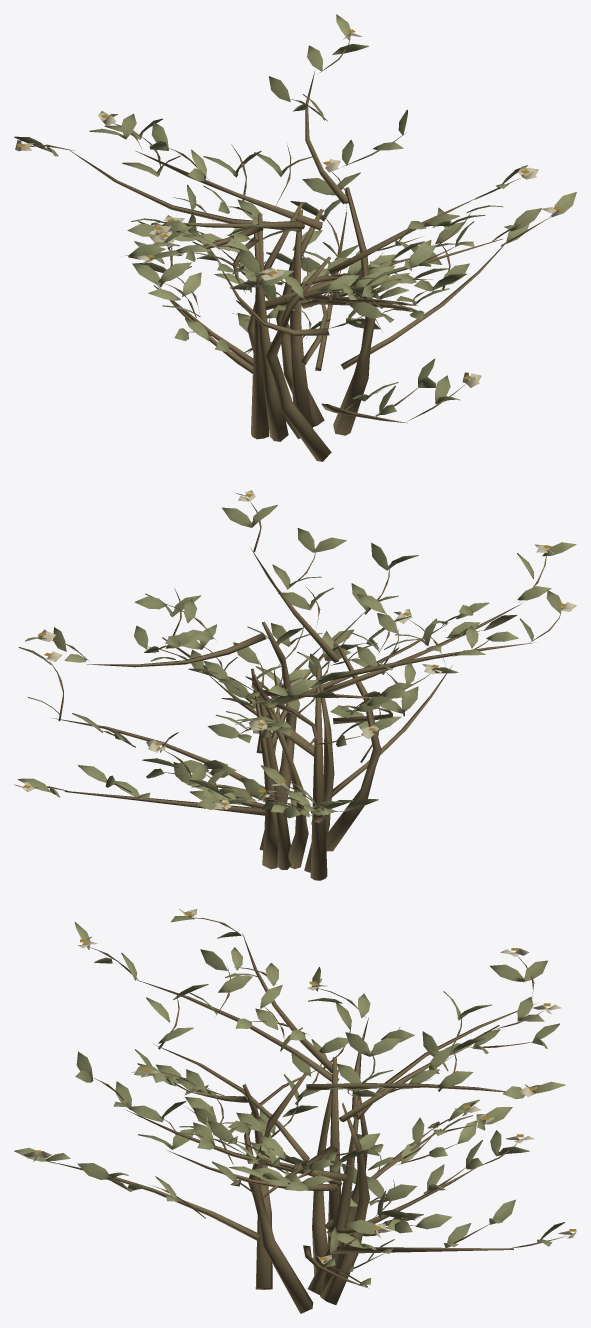
File: Ciste_0_LOD1.fbx
3 views of the same model, one above another, from view 1: azimuth 30°, elevation 25°; view 2: azimuth 150°, elevation 25°; view 3: azimuth 270°, elevation 25° (orthographic). The views are drawn at different scales.
Parts seen in each view (by area): view 1: Ciste_0_LOD1; view 2: Ciste_0_LOD1; view 3: Ciste_0_LOD1.
Boxes of the visible parts, left/top/right/bottom form: Ciste_0_LOD1: left=14, top=14, right=576, bottom=461; Ciste_0_LOD1: left=14, top=490, right=576, bottom=880; Ciste_0_LOD1: left=14, top=909, right=576, bottom=1313.
Bounding box in the file's own units: 151 × 83.88 × 145.
